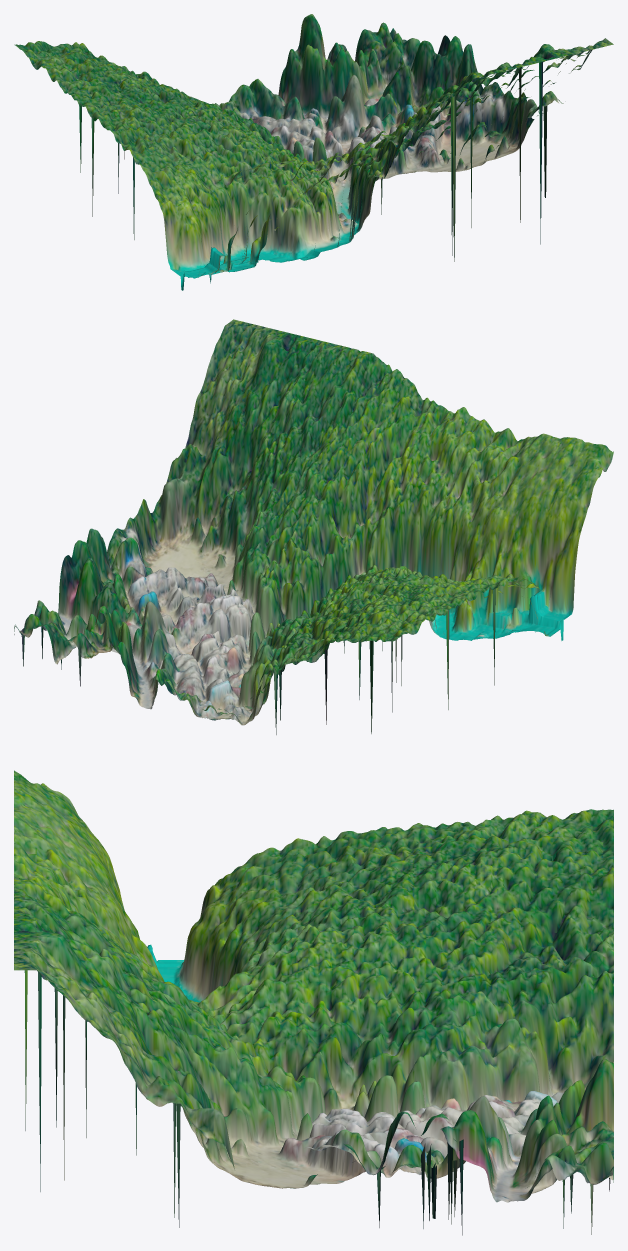
Rendered from dsm_688013c7fb_mesh.glb.
3 renders of one model, top to bottom at view 1: azimuth 30°, elevation 25°; view 2: azimuth 150°, elevation 25°; view 3: azimuth 270°, elevation 25°, orthographic. The views are drawn at different scales.
Visible parts, largest first — view 1: geometry_0; view 2: geometry_0; view 3: geometry_0.
Part boxes in pixels (x1=…): geometry_0: x1=14, y1=14, x2=613, y2=290; geometry_0: x1=14, y1=319, x2=613, y2=734; geometry_0: x1=14, y1=770, x2=613, y2=1235.
Bounding box in the file's own units: 2 × 1 × 2.
